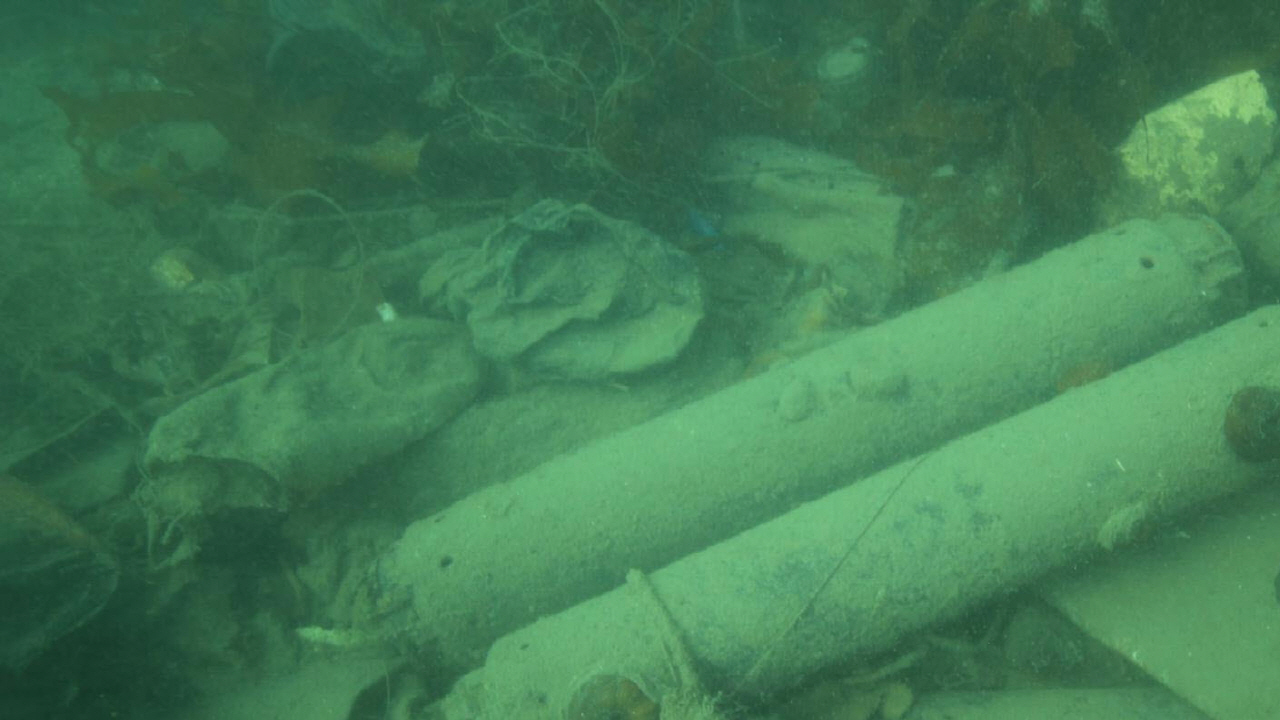eel fish trap: (378, 208, 1254, 667), (440, 301, 1280, 720)
